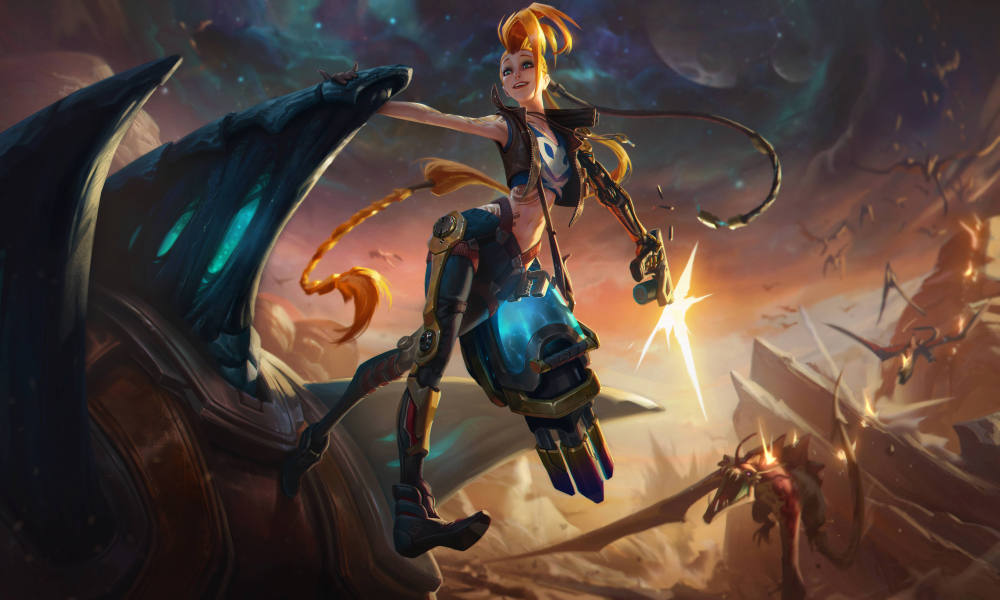face: (476, 3, 587, 109)
